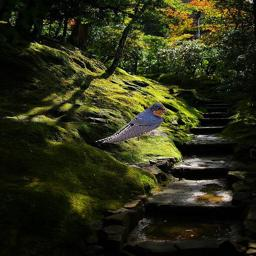Swallow: (95, 102, 169, 144)
